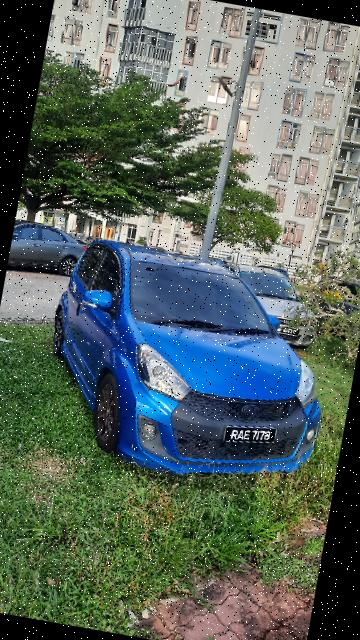License_Plate: (221, 420, 280, 451)
car: (33, 233, 346, 495)
